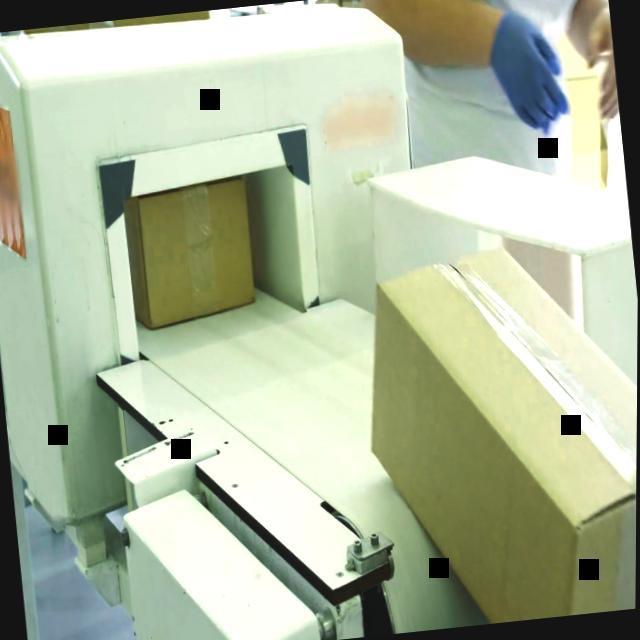box: (349, 231, 639, 634), (120, 170, 262, 336)
